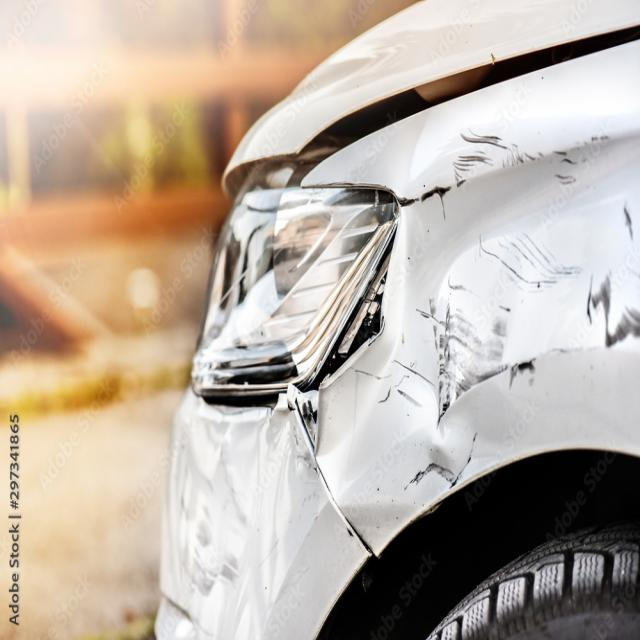dent: (171, 112, 640, 636)
misalignment: (227, 24, 640, 194)
scratch: (343, 121, 640, 523), (176, 444, 257, 609), (291, 425, 320, 480), (343, 523, 354, 543)
